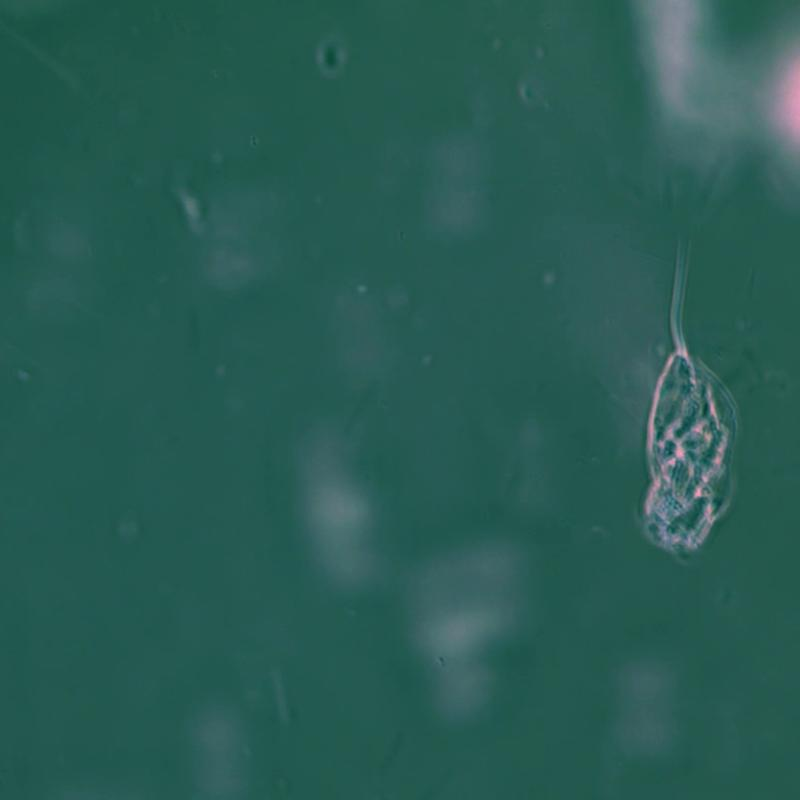depth:20: (610, 222, 780, 589)
